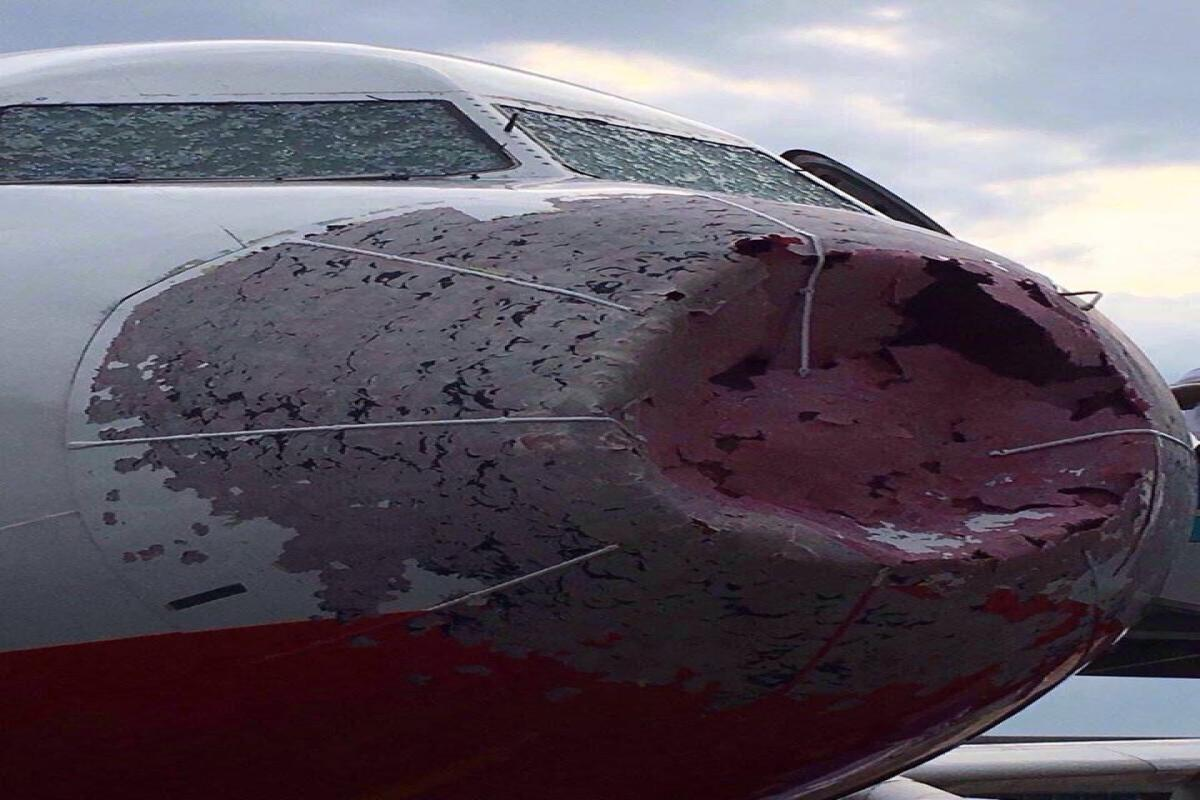Fuselage_damage: (86, 189, 1200, 724)
